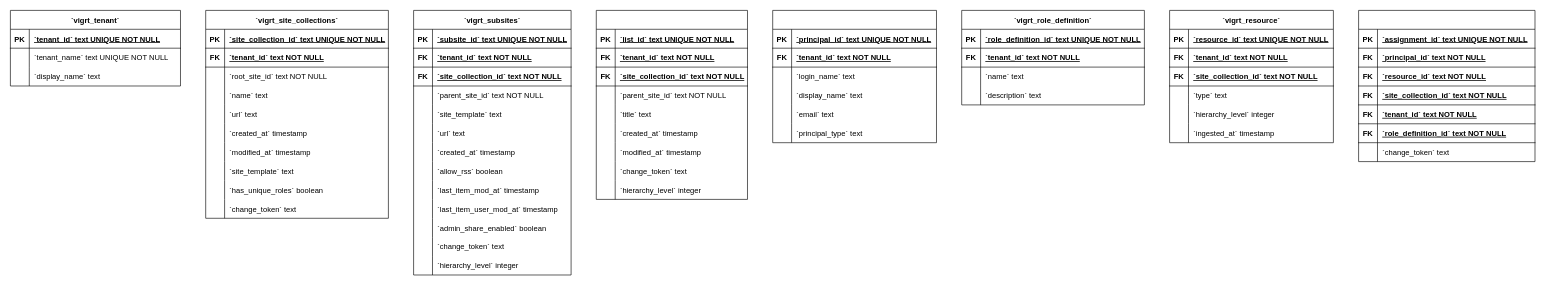
Image size: 1545x285. Some labels were removed from this diagram. The shapes that lost their labels are listed below. From the top down, each one's box as (x1, y1, x2, y2) in pixels, then its label:
(772, 10, 936, 143): `vigrt_member`
(1358, 10, 1535, 162): `vigrt_role_assignment`
(596, 10, 747, 199): `vigrt_lists`
